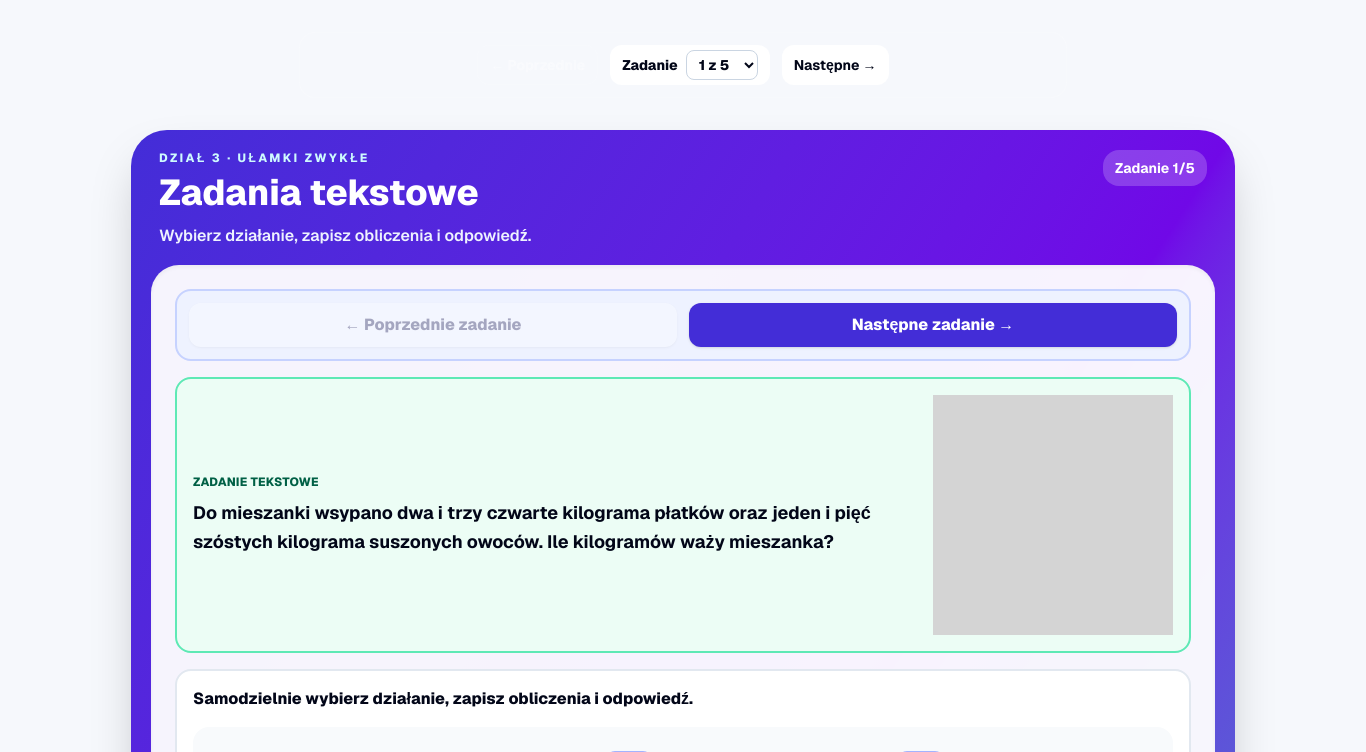
Scenario: BoardStageDisplay - zadania tekstowe z ulamkow › pozwala nauczycielowi przechodzic w obie strony bez dokladania drugiego zadania pod pierwszym
Expected: the text "Zadanie 1/5" is shown, x1=1103 y1=150 x2=1207 y2=186
Expected: the text "Do mieszanki wsypano" is shown, x1=193 y1=501 x2=871 y2=553
Click the button "Następne zadanie →". click: {"x": 933, "y": 325}
box: x1=689 y1=303 x2=1177 y2=347
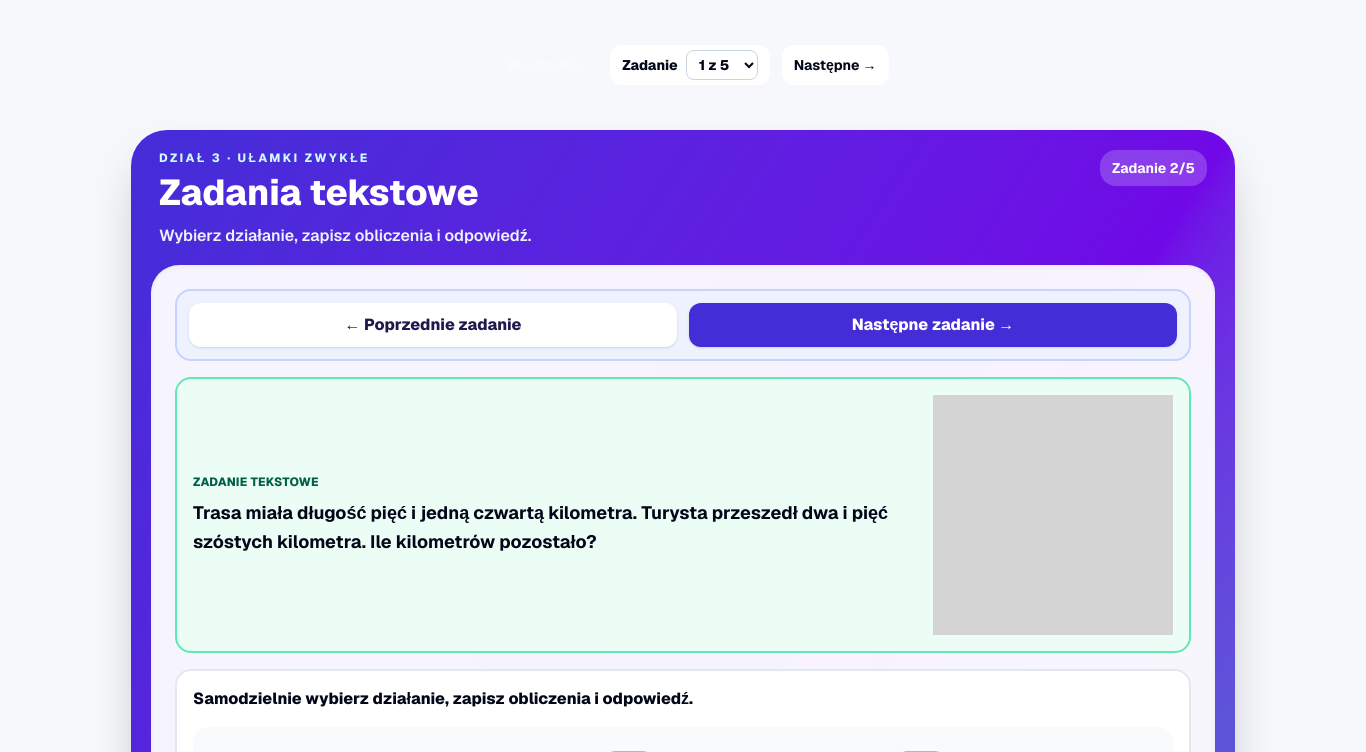
Now the text "Zadanie 2/5" is shown, box x1=1100 y1=150 x2=1207 y2=186
Now the text "Trasa miała długość" is shown, box x1=193 y1=501 x2=888 y2=553
Now the text "Do mieszanki wsypano" is gone
Click the button "← Poprzednie zadanie". click: {"x": 433, "y": 325}
box: x1=189 y1=303 x2=677 y2=347
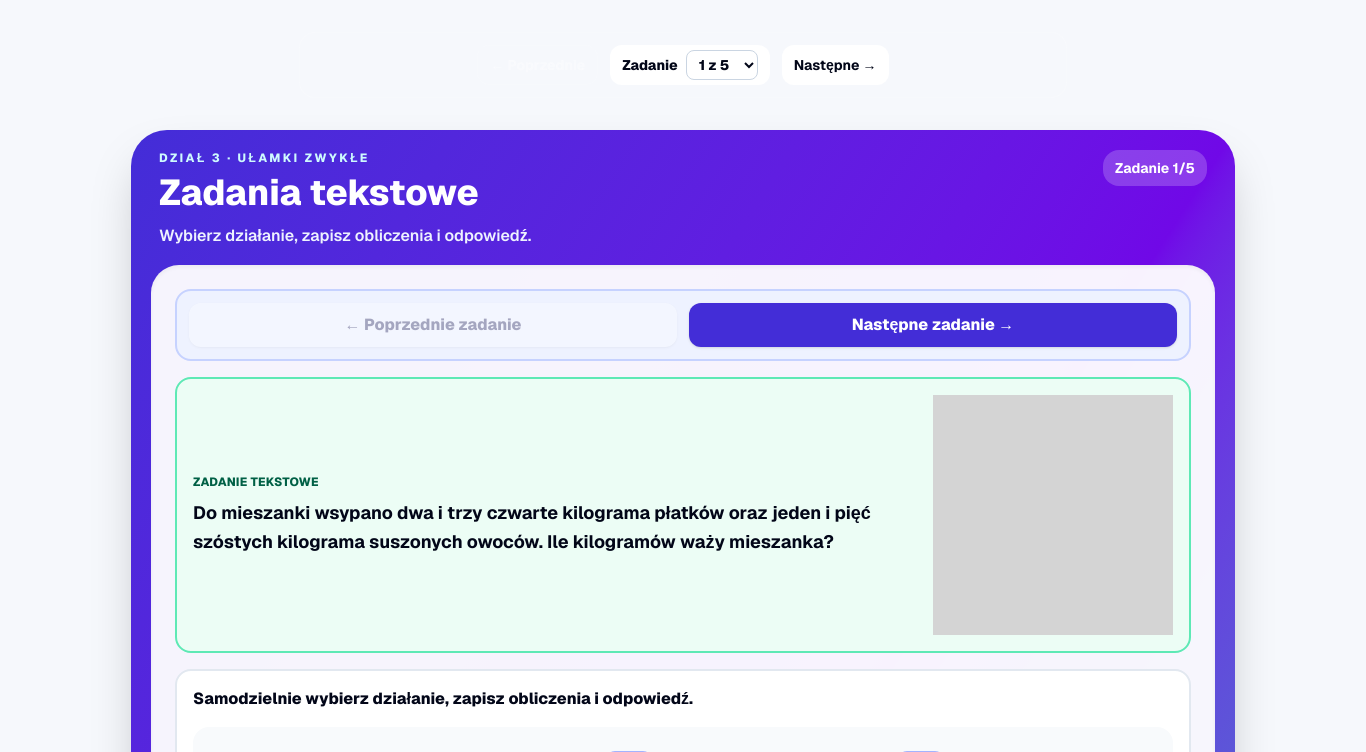
Now the text "Zadanie 1/5" is shown, box x1=1103 y1=150 x2=1207 y2=186
Now the text "Do mieszanki wsypano" is shown, box x1=193 y1=501 x2=871 y2=553
